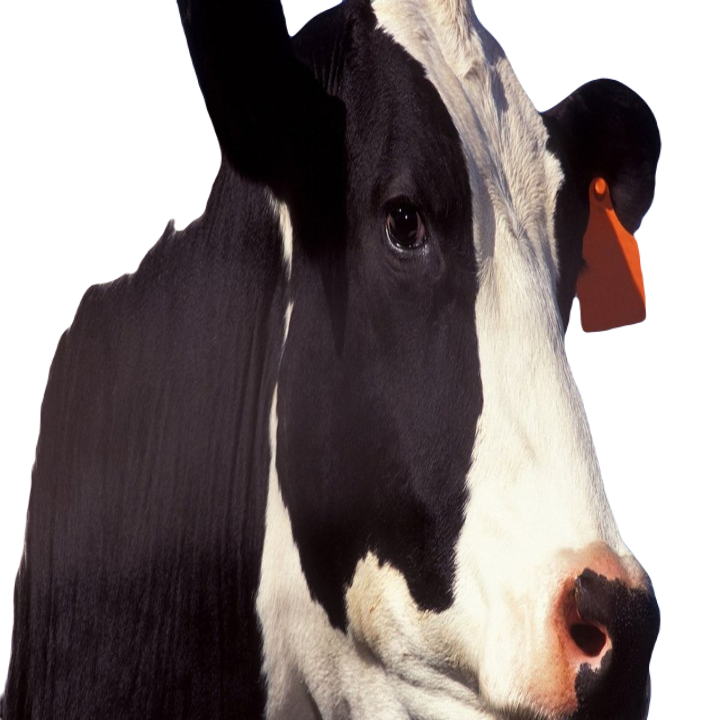Cow: (0, 0, 666, 720)
